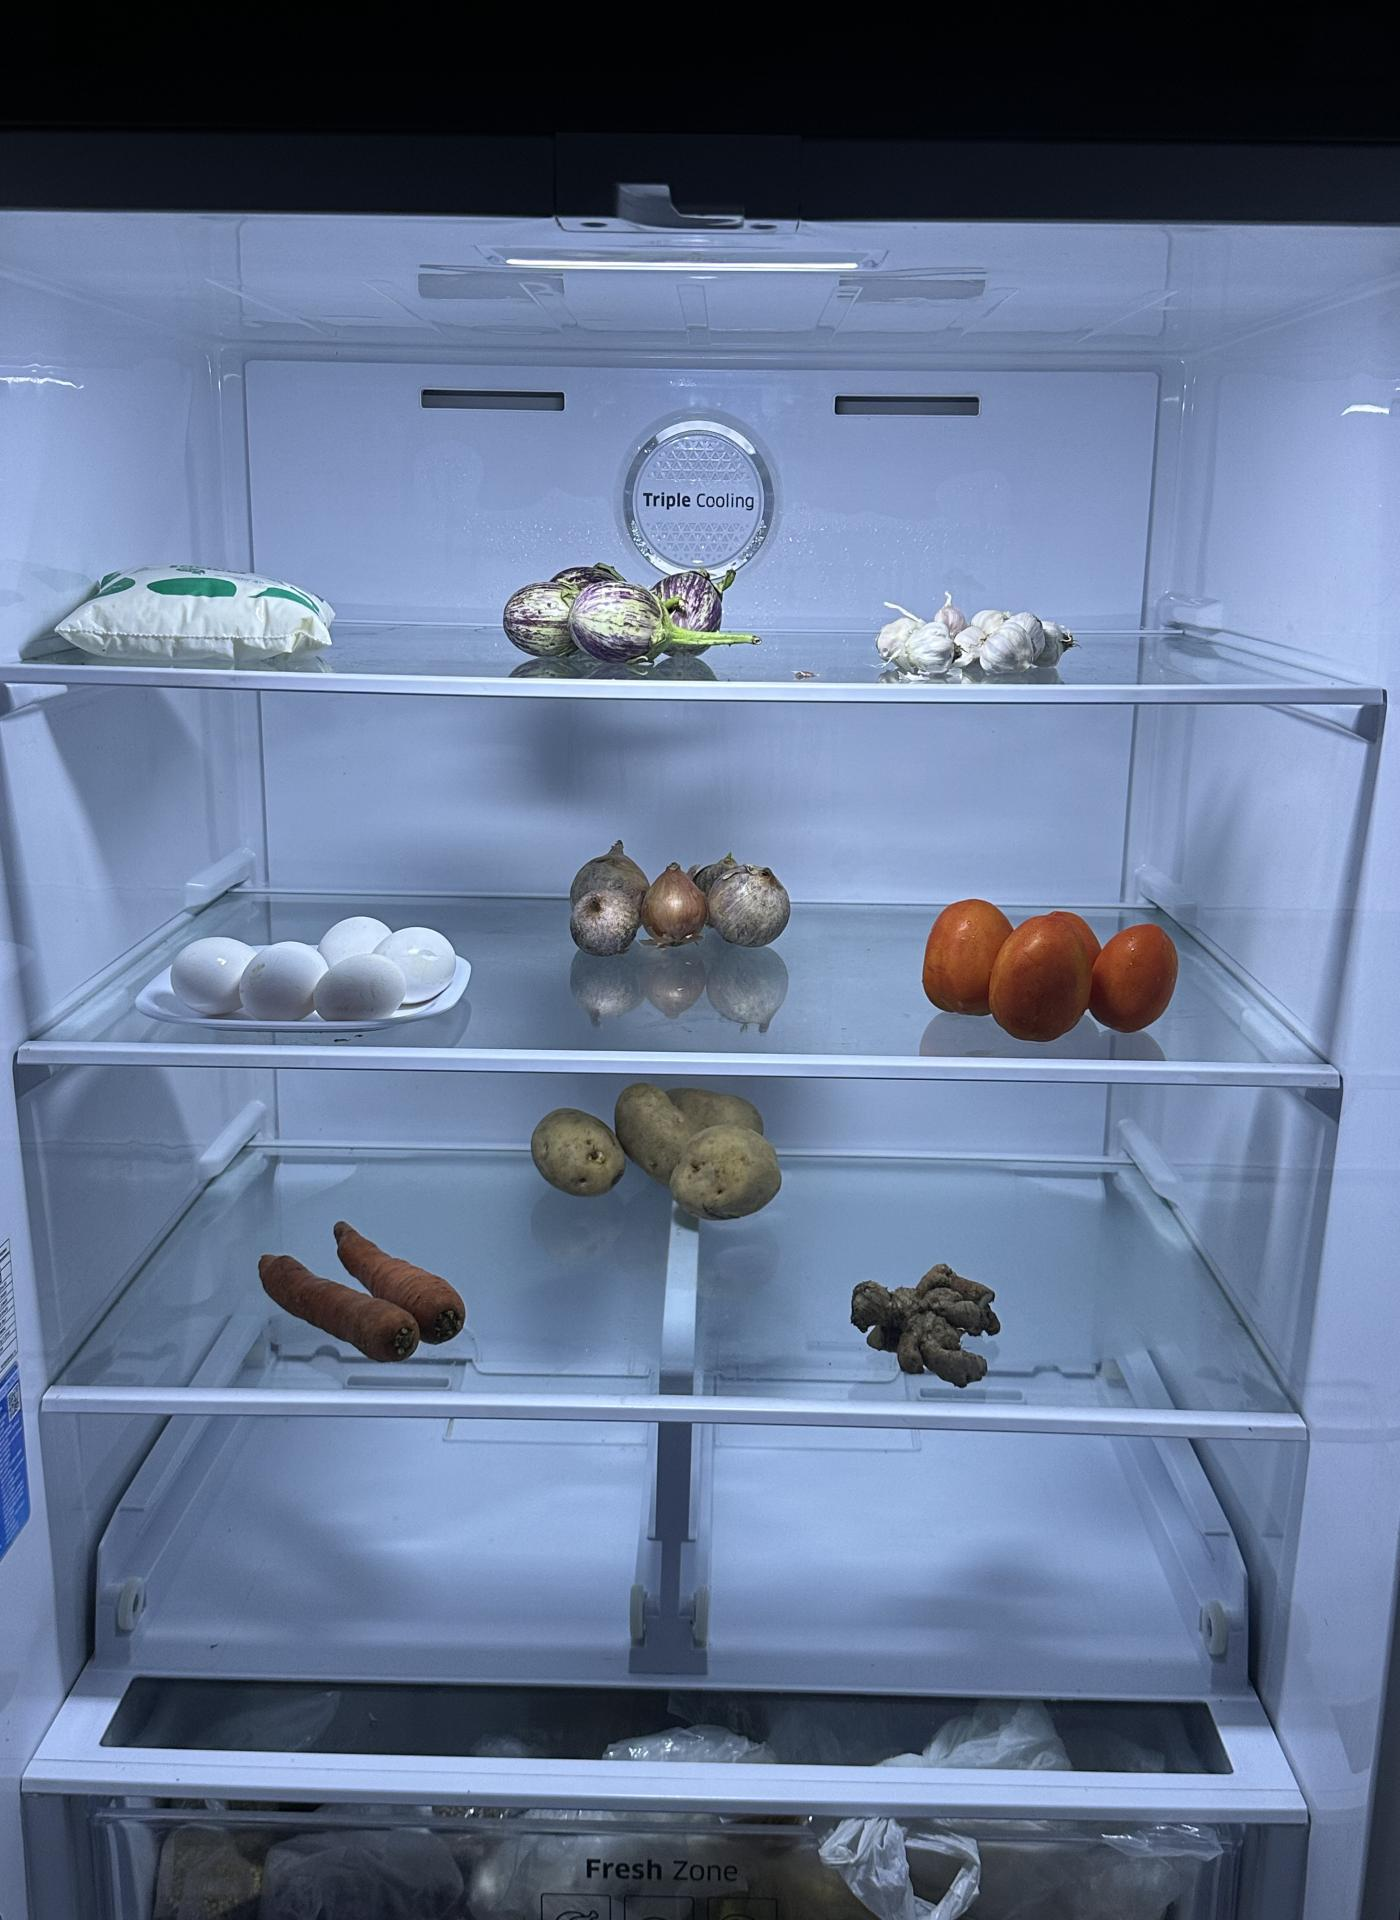brinjal: (483, 549, 750, 665)
carrots: (264, 1209, 473, 1364)
garlic: (881, 587, 1078, 689)
ginger: (847, 1251, 1006, 1394)
milk: (12, 552, 338, 672), (173, 899, 470, 1018)
onion: (570, 832, 802, 953)
potato: (528, 1069, 795, 1213)
tomato: (914, 881, 1182, 1040)
